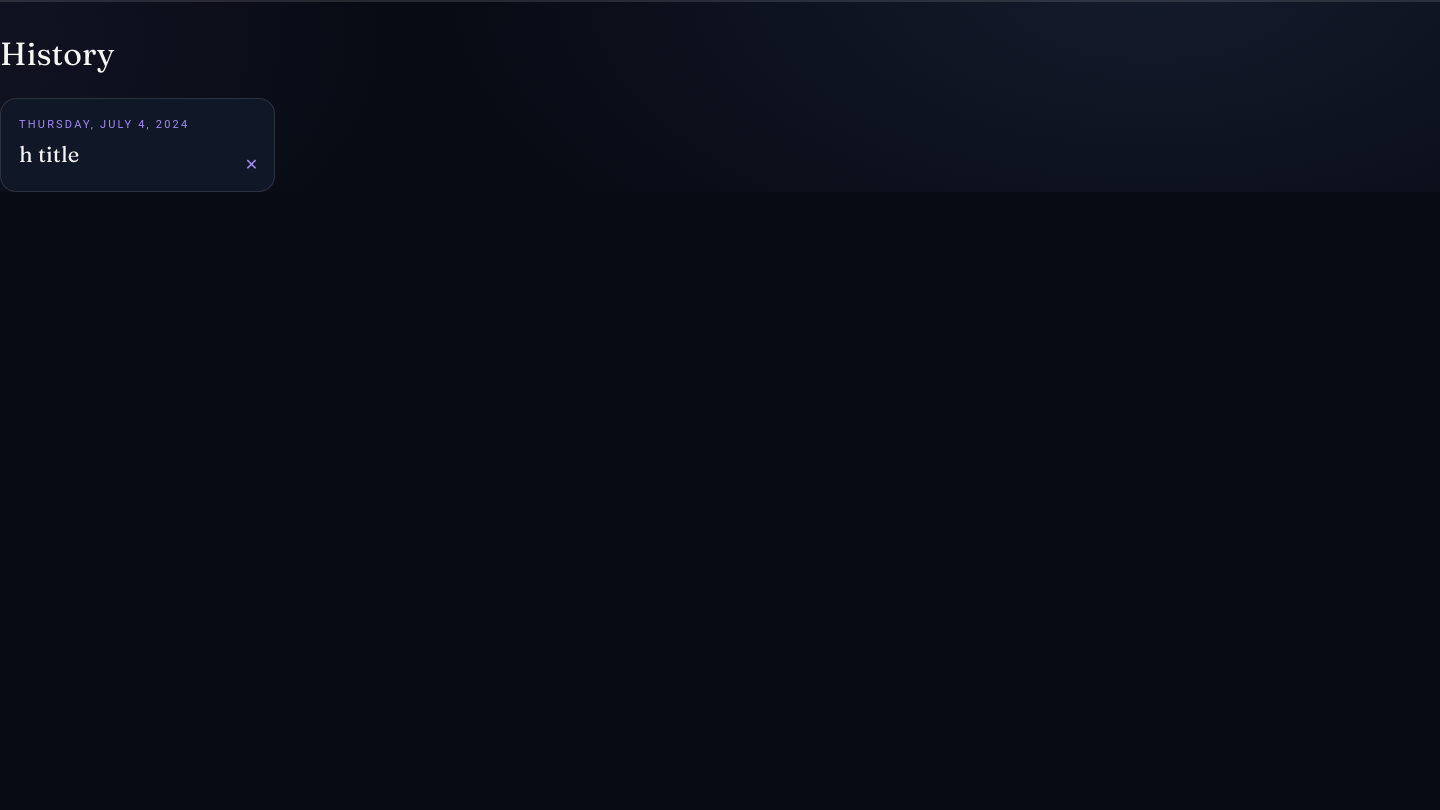
Test: BookmarksView › removes an item only after confirming in the dialog
Click the button named "Remove h title": point(252, 165) x1=241 y1=153 x2=262 y2=177
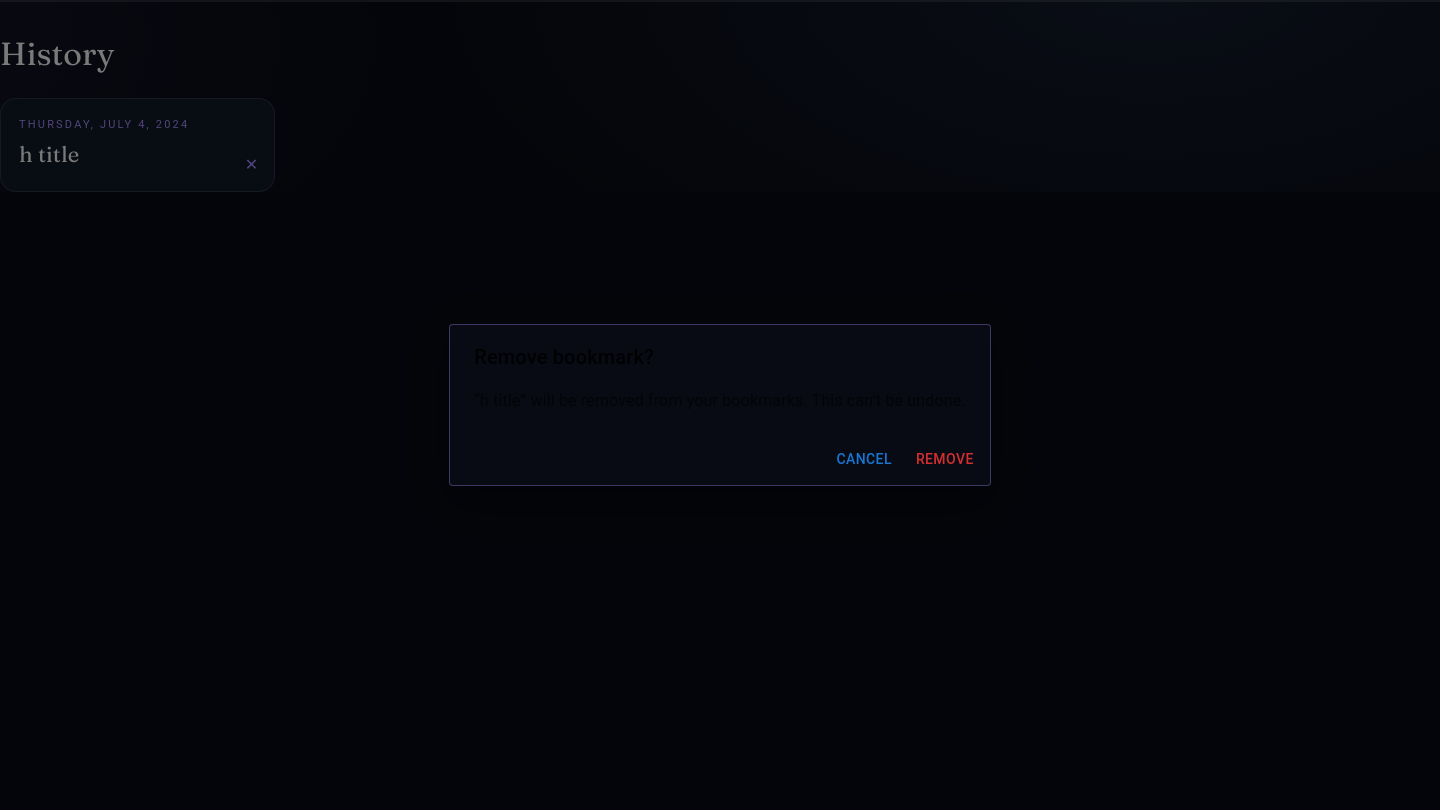
expect the dialog is shown: met, box x1=449 y1=324 x2=991 y2=486
Click the button "Remove": point(945, 459) x1=908 y1=441 x2=982 y2=477
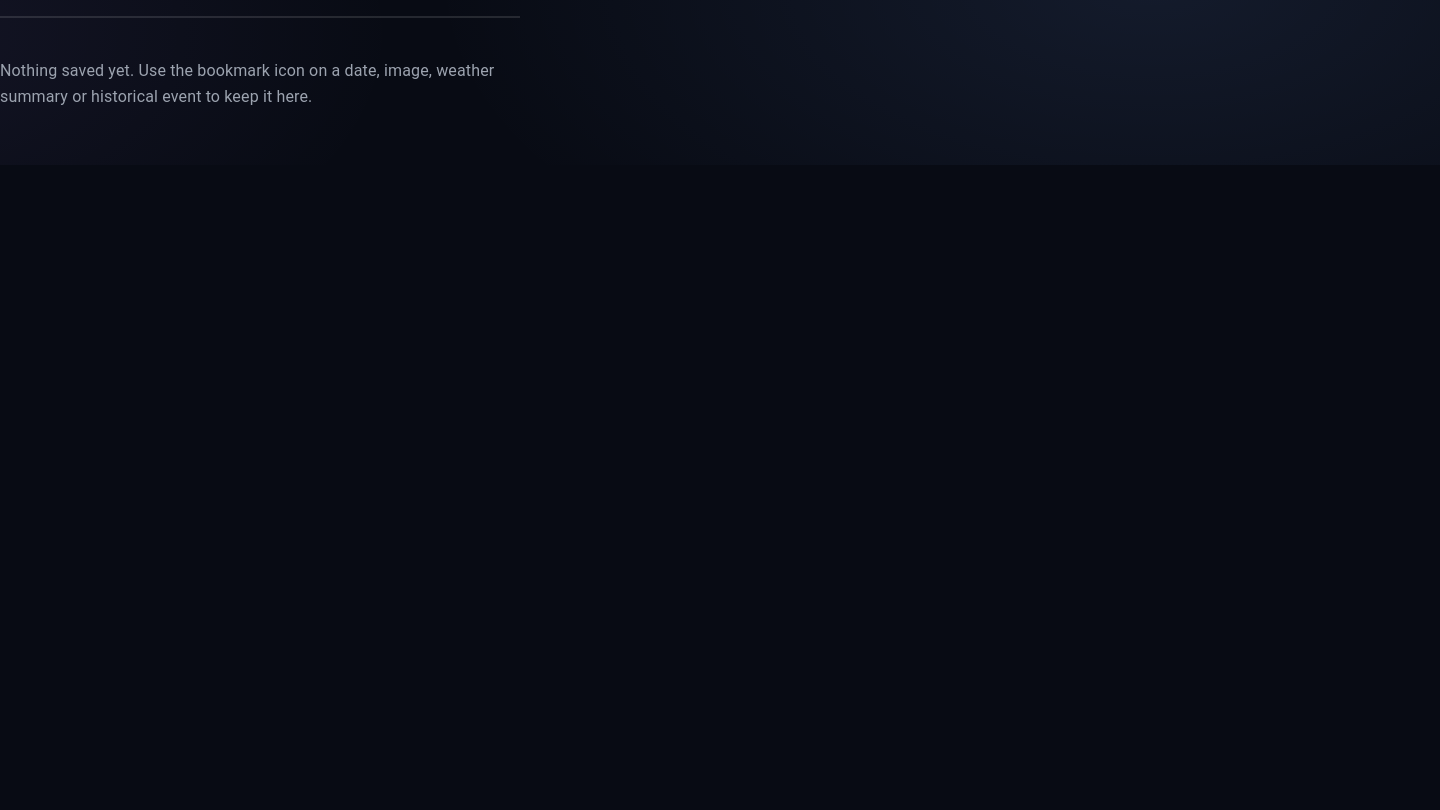
expect the link "h title" is gone: met
